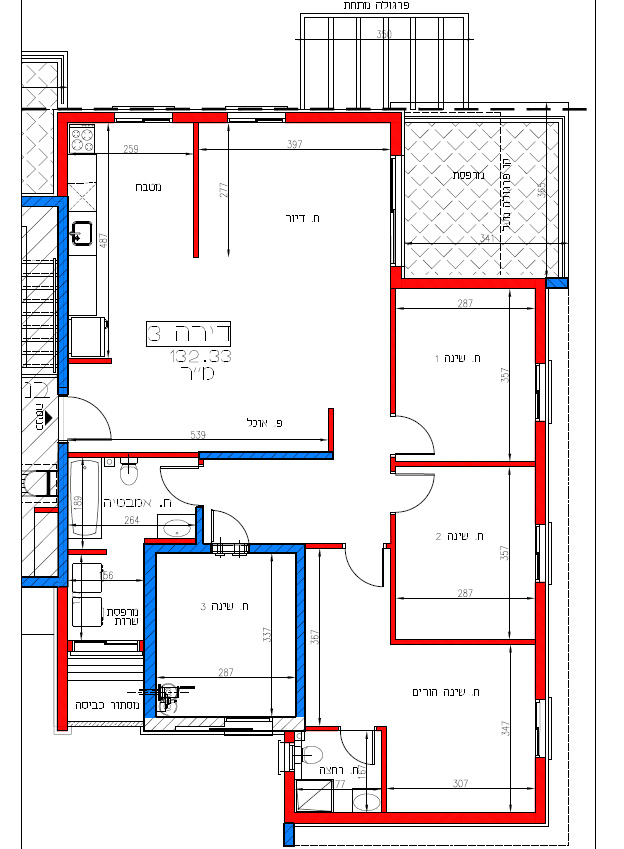door: (400, 467, 449, 519), (337, 560, 391, 595), (406, 412, 446, 457), (207, 502, 254, 540), (156, 461, 194, 508), (337, 738, 377, 770)
wall: (296, 810, 539, 826), (58, 200, 70, 395), (296, 546, 307, 715), (145, 547, 156, 691), (393, 276, 543, 286), (59, 448, 67, 583), (287, 112, 403, 121), (58, 114, 70, 194), (536, 427, 546, 518), (539, 594, 544, 688)
window: (384, 155, 410, 269), (526, 365, 558, 424), (70, 632, 143, 657), (531, 519, 554, 585), (532, 698, 555, 760), (116, 105, 174, 128), (229, 108, 293, 126)
